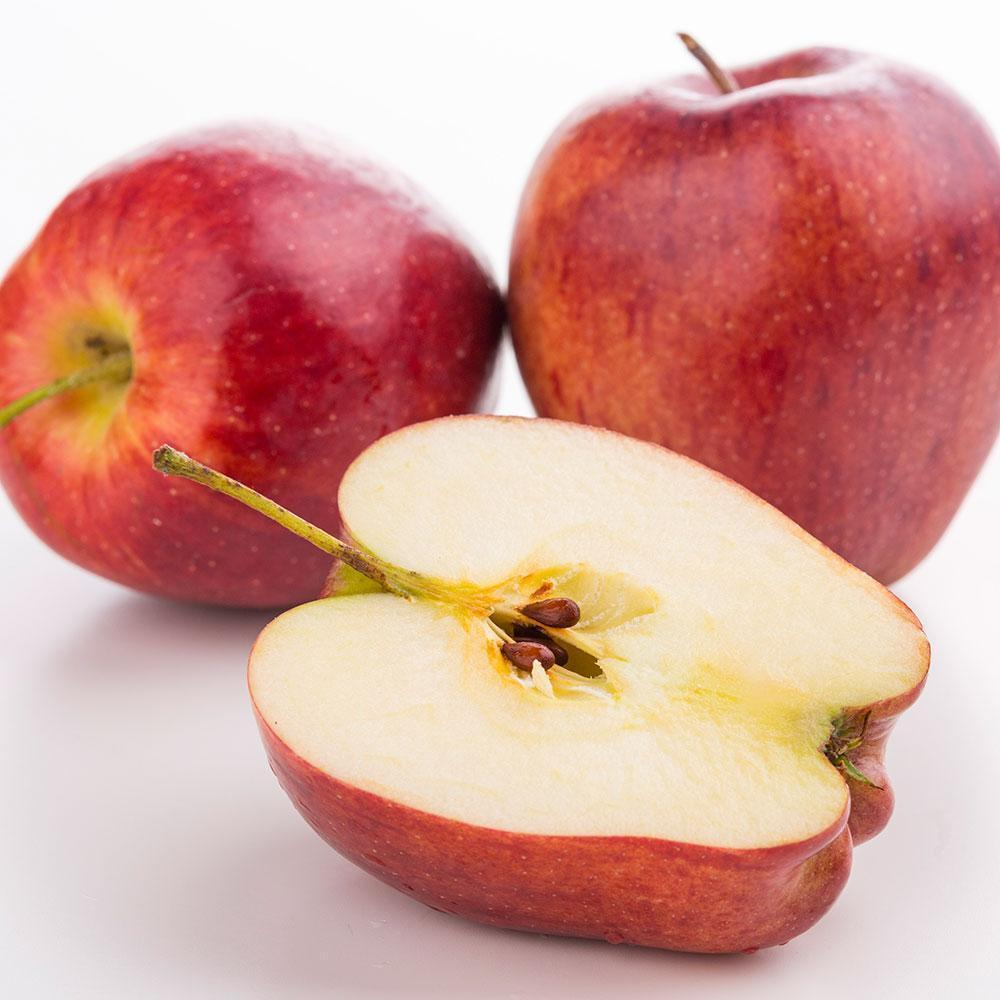apple: (502, 57, 1000, 576), (1, 119, 511, 617)
